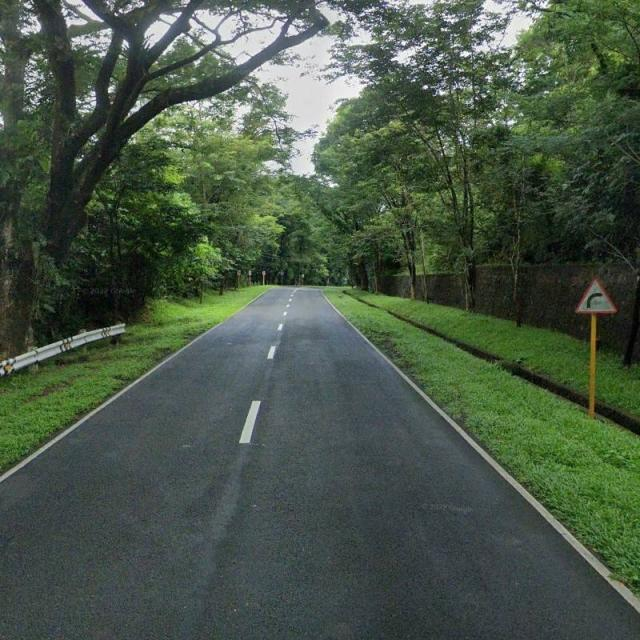warn_right_curve: (574, 277, 617, 314)
